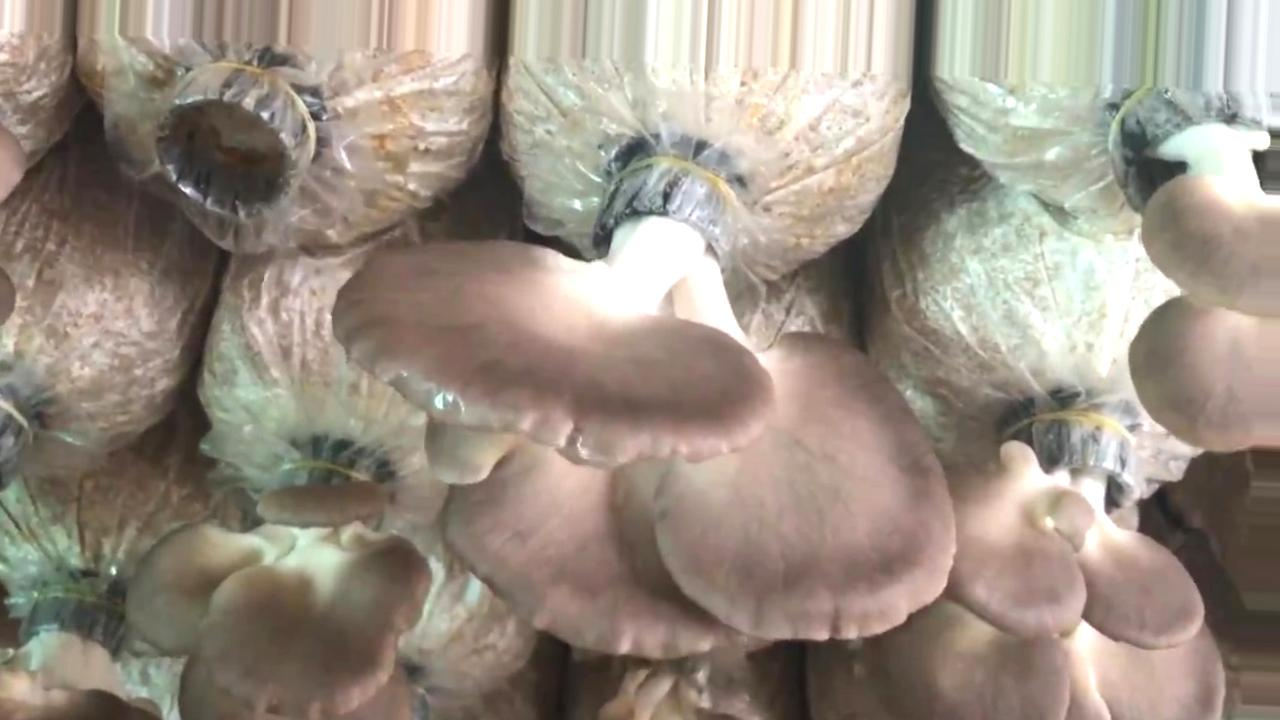nam: (337, 154, 956, 659), (864, 416, 1224, 719), (133, 467, 424, 718), (1110, 88, 1279, 449), (1, 591, 159, 720)
